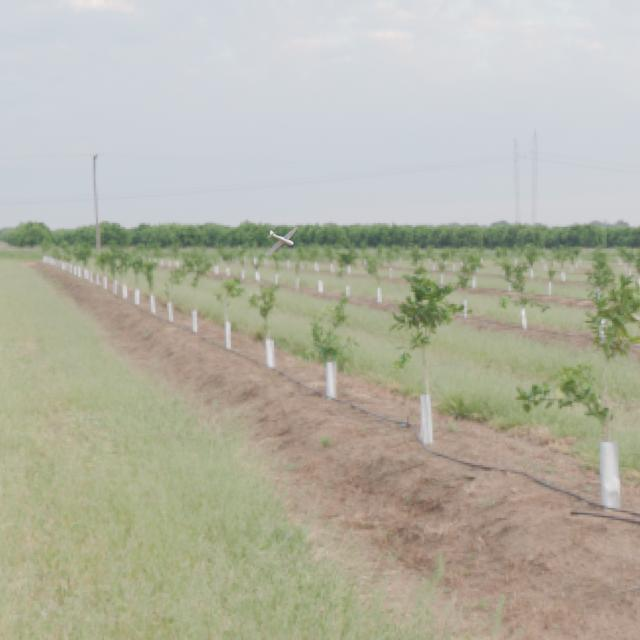Airaplan: (265, 227, 297, 255)
